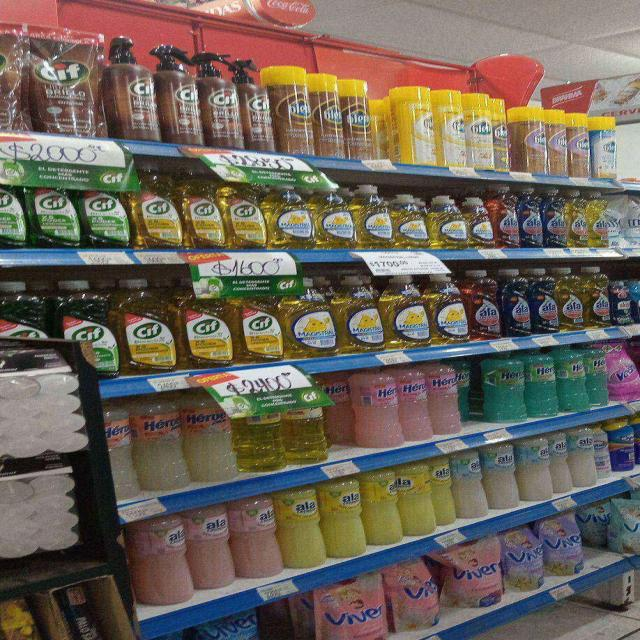ala_conc_amarillo: (558, 266, 584, 332), (585, 265, 609, 329), (588, 191, 610, 248), (567, 190, 588, 248)
ala_conc_azul: (502, 268, 530, 337), (531, 267, 558, 334), (518, 187, 542, 248), (543, 188, 566, 248), (610, 265, 632, 326)
ala_conc_rojo: (468, 269, 500, 340), (493, 186, 518, 248)
ala_crem_amarillo: (279, 486, 322, 569), (323, 477, 362, 559), (364, 469, 399, 546), (400, 463, 430, 538), (432, 456, 454, 528)
ala_crem_blanco: (520, 435, 553, 501), (487, 443, 518, 510), (457, 449, 486, 519), (554, 432, 572, 494)
ala_crem_rosado: (233, 496, 279, 579), (190, 505, 232, 590)
cif_conc_bot_amarilla: (118, 278, 176, 375), (180, 284, 233, 369), (131, 164, 181, 249), (182, 169, 223, 249), (236, 292, 281, 364), (224, 177, 265, 250)
cif_conc_botella_verde: (56, 279, 116, 379), (0, 281, 52, 346), (82, 181, 129, 249), (30, 184, 78, 249), (0, 158, 26, 249)
heroe: (130, 515, 189, 606), (135, 396, 186, 492), (354, 366, 399, 448), (482, 352, 526, 422), (399, 363, 430, 443), (430, 360, 462, 437), (527, 348, 557, 417)
magistral_con_amarillo: (283, 280, 335, 358), (337, 274, 382, 354), (383, 273, 429, 348), (266, 183, 313, 249), (430, 272, 467, 344), (315, 184, 354, 249), (355, 185, 392, 249), (429, 195, 466, 249), (393, 193, 428, 250), (467, 194, 493, 248)
